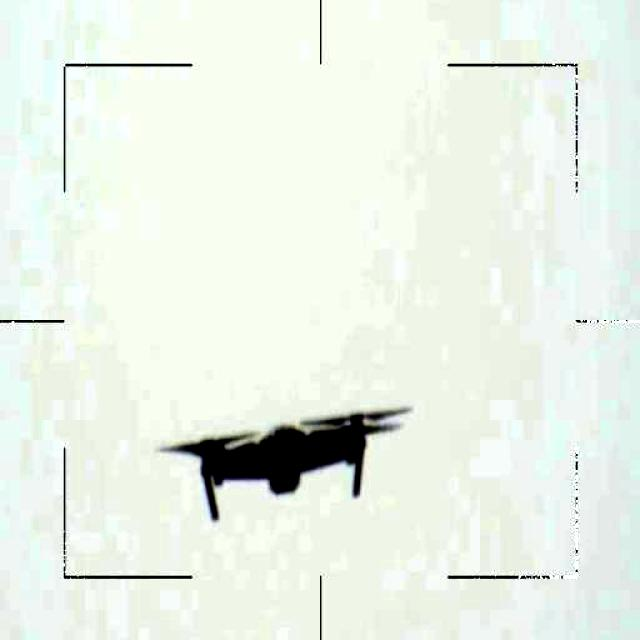bird: (155, 399, 415, 520)
